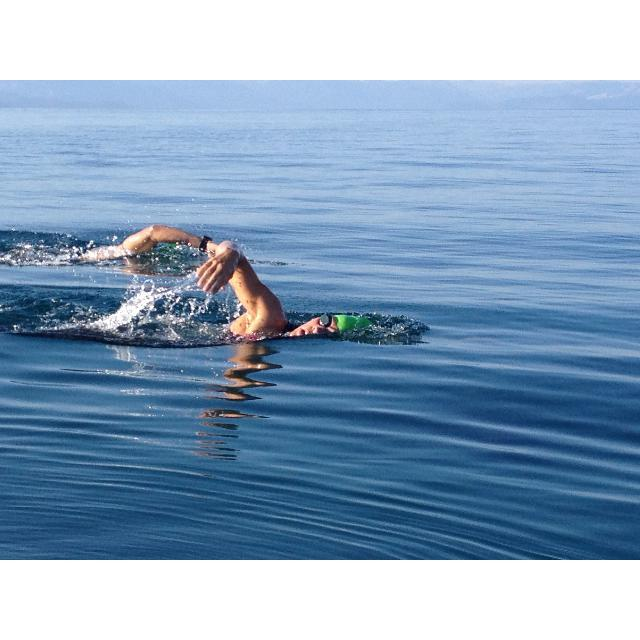human: (196, 236, 383, 347), (65, 215, 226, 268)
